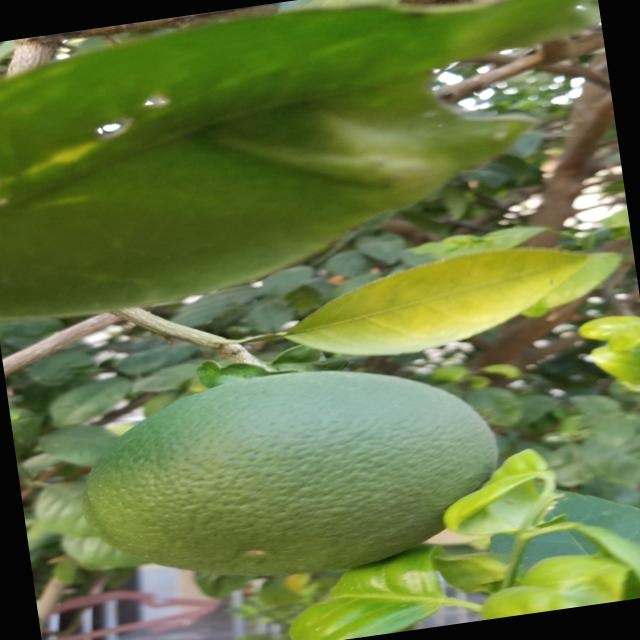agrume: (65, 342, 536, 606)
